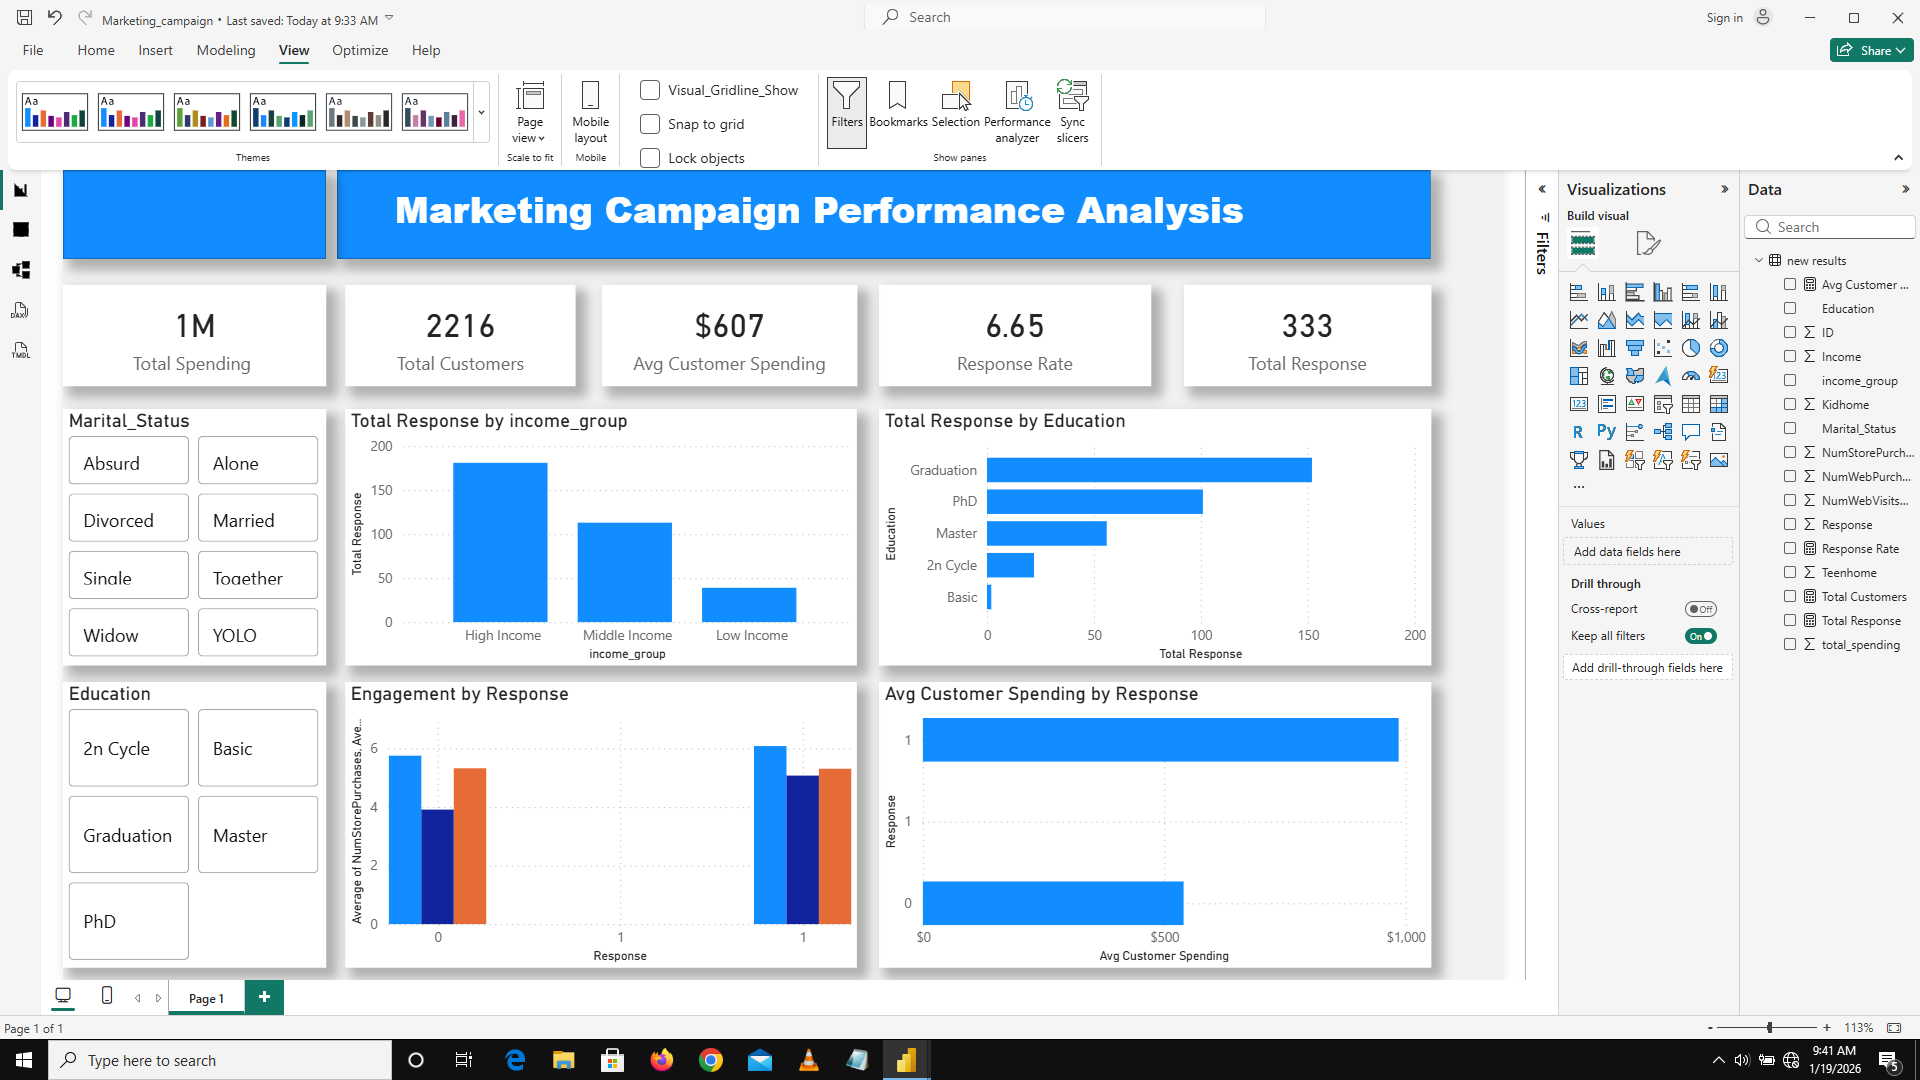

The page's visual inventory and layout, read from the dashboard file:
{"tool":"powerbi","page":{"name":"Page 1","canvas":[1280,720],"ordinal":0},"visuals":[{"type":"shape","box":[243.6,0,972.4,79.1],"z":0},{"type":"shape","box":[0,0,233.8,79.1],"z":2000},{"type":"card","fields":{"Values":["new results.Total Customers"]},"box":[250.9,102.2,205.3,89.8],"z":3000},{"type":"card","fields":{"Values":["new results.Total Response"]},"box":[996.6,102.2,219.6,89.8],"z":4000},{"type":"card","fields":{"Values":["new results.Response Rate"]},"box":[725.5,102.2,241.8,89.8],"z":5000},{"type":"card","fields":{"Values":["new results.Average Customer Spending"]},"box":[479.3,102.2,226.7,89.8],"z":6000},{"type":"lineClusteredColumnComboChart","fields":{"Category":["new results.income_group"],"Y":["new results.Total Response"]},"box":[250.9,212.4,455.1,228.4],"z":7000},{"type":"barChart","fields":{"Category":["new results.Education"],"Y":["new results.Total Response"]},"box":[725.2,212.8,491.1,228],"z":8000},{"type":"clusteredBarChart","fields":{"Category":["new results.Response"],"Y":["new results.Avg Customer Spending"]},"box":[725.2,455.2,491.1,254.1],"z":9000},{"type":"clusteredColumnChart","title":"Engagement  by Response","fields":{"Y":["Avg(new results.NumStorePurchases)","Avg(new results.NumWebPurchases)","Avg(new results.NumWebVisitsMonth)"],"Category":["new results.Response"]},"box":[250.9,455.1,455.1,254.2],"z":10000},{"type":"textbox","box":[290,7.2,764.9,63.7],"z":11000},{"type":"card","fields":{"Values":["Sum(new results.total_spending)"]},"box":[0,102.2,233.8,89.8],"z":12000},{"type":"advancedSlicerVisual","fields":{"Values":["new results.Marital_Status"]},"box":[0,212.4,233.8,228.4],"z":13000},{"type":"advancedSlicerVisual","fields":{"Values":["new results.Education"]},"box":[0,455.1,233.8,254.2],"z":14000}]}

Visuals, with their boxes on the page's 1280x720 design canvas (x1, y1, x2, y2). These are canvas units, not pixel positions in the 1920x1080 screenshot, which may show the page scaled, cropped or inside an application window:
shape: BBox(244, 0, 1216, 79)
shape: BBox(0, 0, 234, 79)
card - new results.Total Customers: BBox(251, 102, 456, 192)
card - new results.Total Response: BBox(997, 102, 1216, 192)
card - new results.Response Rate: BBox(726, 102, 967, 192)
card - new results.Average Customer Spending: BBox(479, 102, 706, 192)
lineClusteredColumnComboChart - new results.income_group x new results.Total Response: BBox(251, 212, 706, 441)
barChart - new results.Education x new results.Total Response: BBox(725, 213, 1216, 441)
clusteredBarChart - new results.Response x new results.Avg Customer Spending: BBox(725, 455, 1216, 709)
"Engagement  by Response" clusteredColumnChart: BBox(251, 455, 706, 709)
textbox: BBox(290, 7, 1055, 71)
card - Sum(new results.total_spending): BBox(0, 102, 234, 192)
advancedSlicerVisual - new results.Marital_Status: BBox(0, 212, 234, 441)
advancedSlicerVisual - new results.Education: BBox(0, 455, 234, 709)
